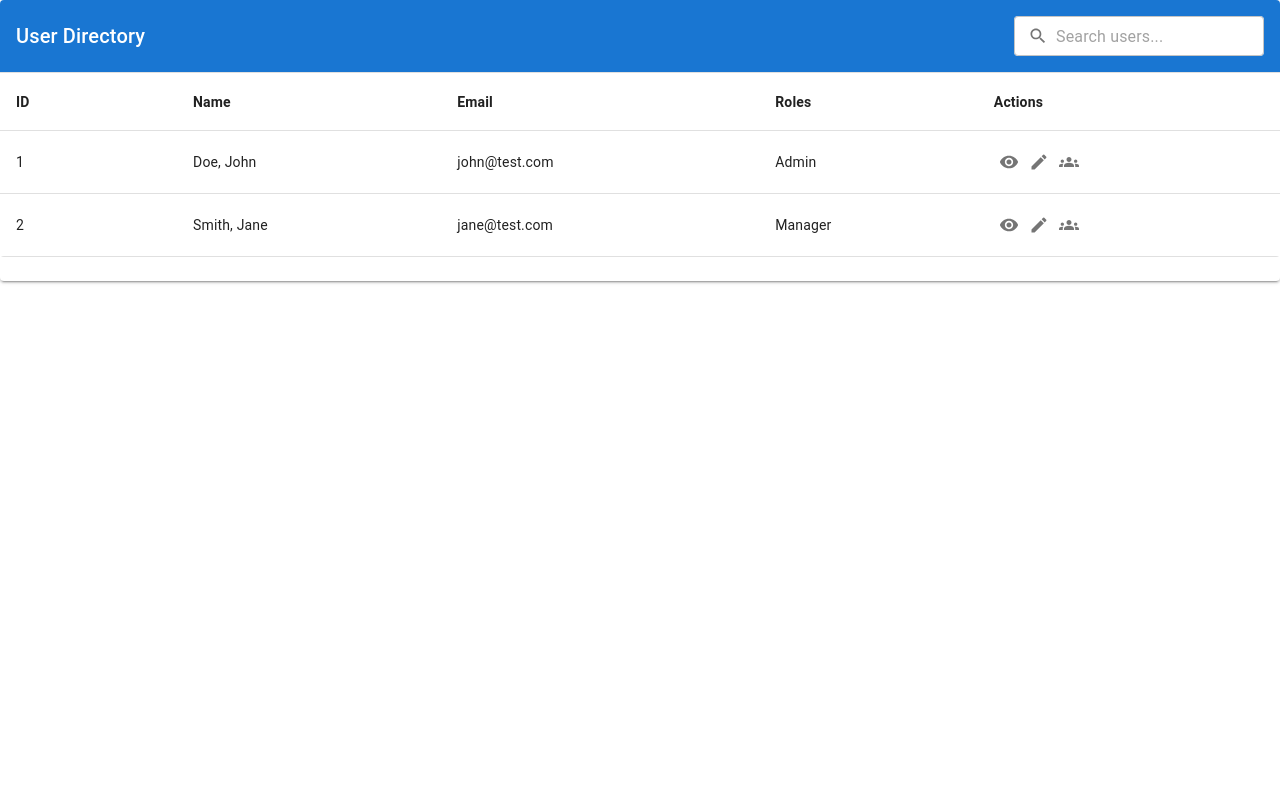
Test: UsersView › should open the user detail modal when view icon is clicked
The width and height of the screenshot is (1280, 800).
Expected: the text "Doe, John" is shown, [177,131,441,194]
Click the button named "View Profile" in the row of "Doe, John": (1009, 162) [994,147,1024,177]
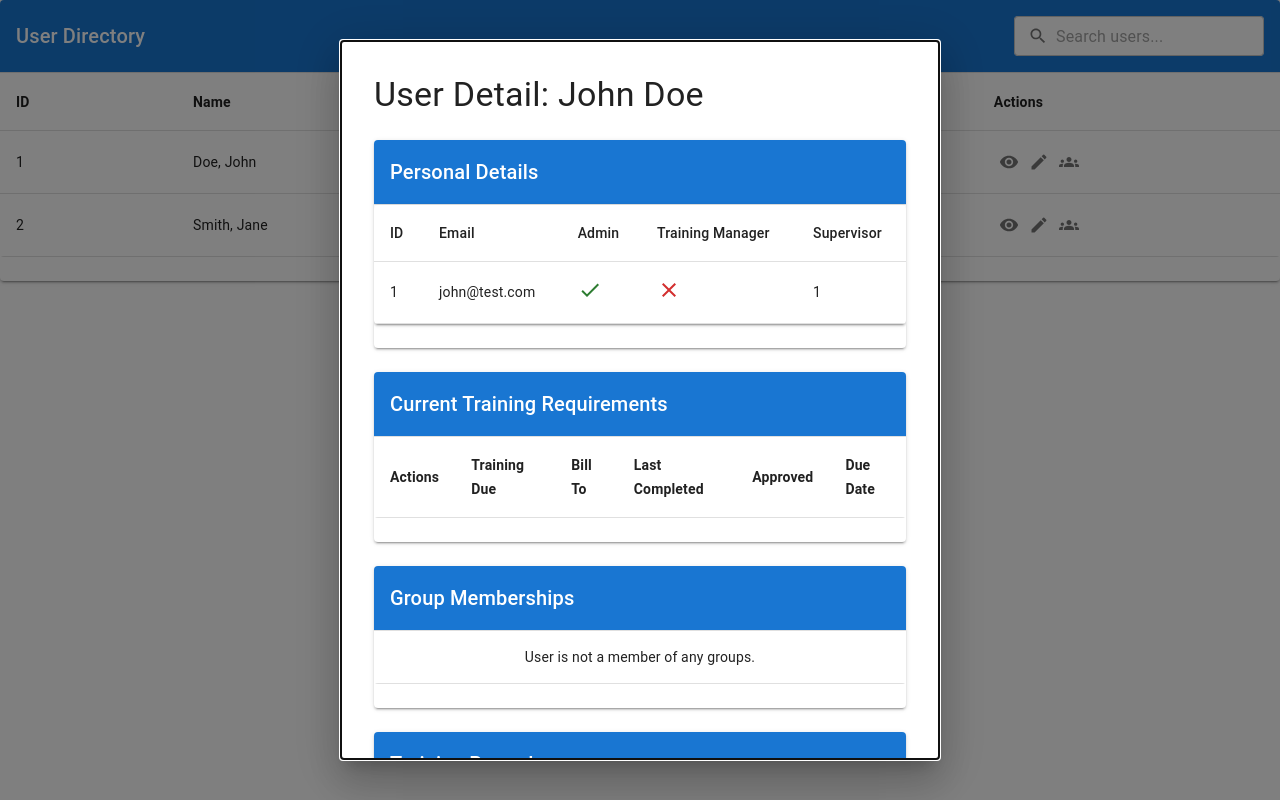
Now the heading "User Detail: John Doe" is shown, box [374,74,704,114]
Now the heading "Personal Details" is shown, box [390,160,538,184]
